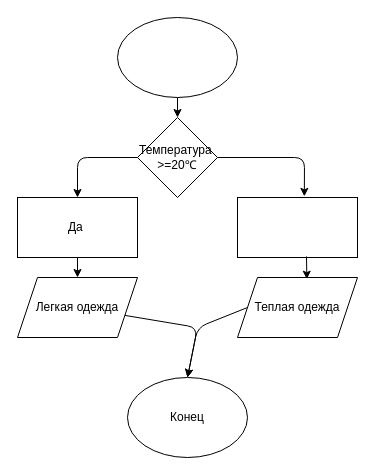
Image size: 375x475. Some labels were removed from this diagram. Each missing label, with the centre of its shape:
Начало: the point at 177,57
Нет: the point at 297,227
